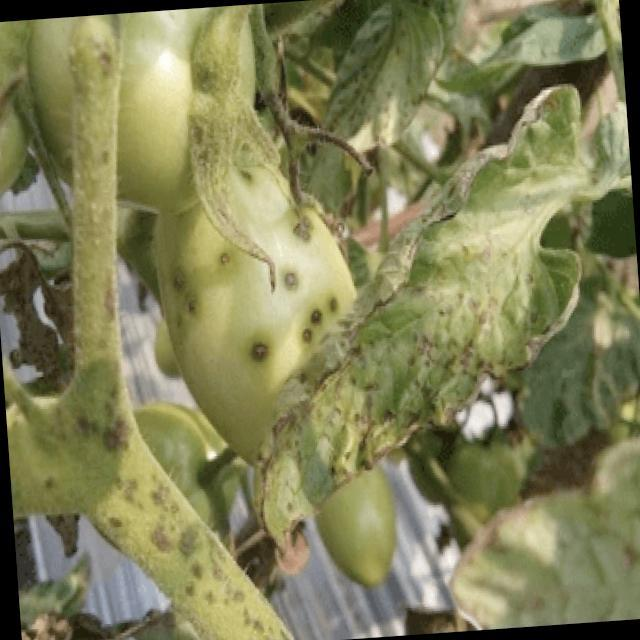Tomato bacterial spot leaf: (217, 70, 618, 546)
